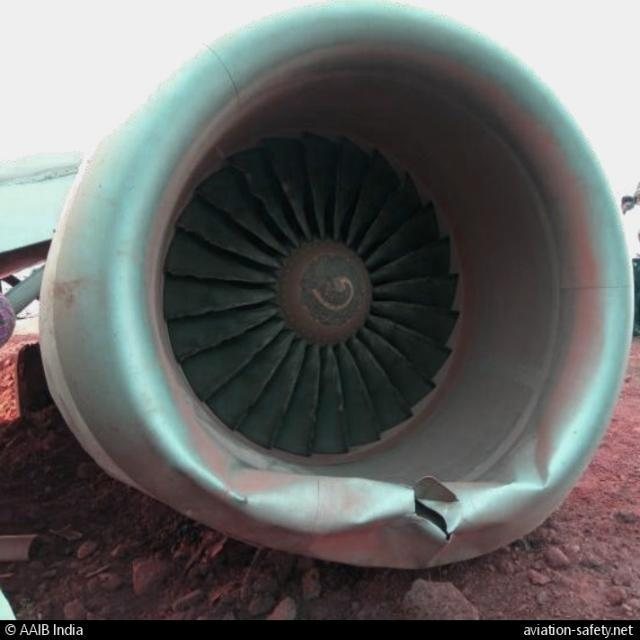crack: (414, 492, 452, 545)
dent: (242, 481, 411, 531), (510, 434, 558, 496)
